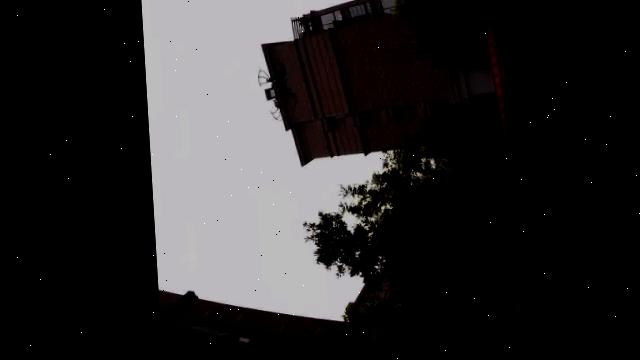drone: (253, 48, 300, 128)
